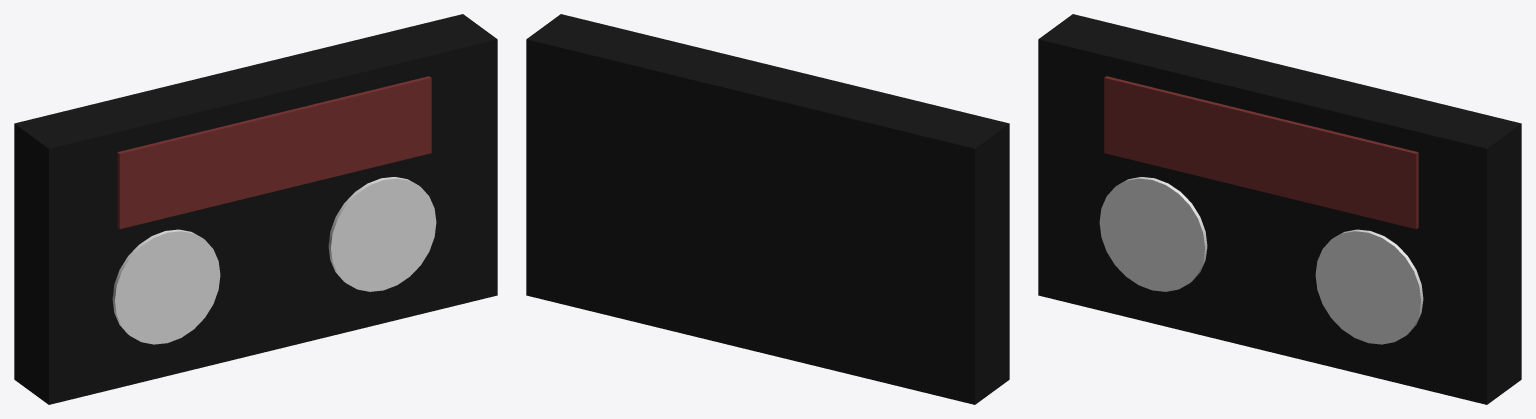
Rendered from vhs-0.glb.
3 views of the same model, side by side, from view 1: azimuth 30°, elevation 25°; view 2: azimuth 150°, elevation 25°; view 3: azimuth 330°, elevation 25° (orthographic).
Size of the model in its own units: 0.187 by 0.102 by 0.0267.
